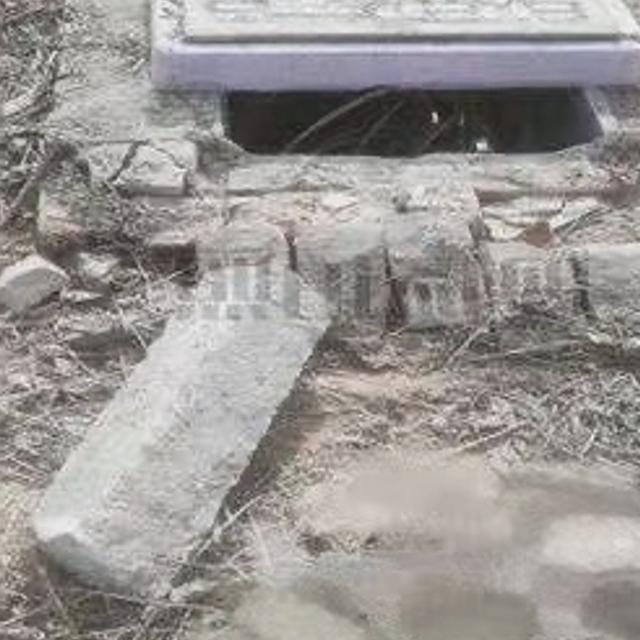uncovered: (110, 0, 640, 158)
